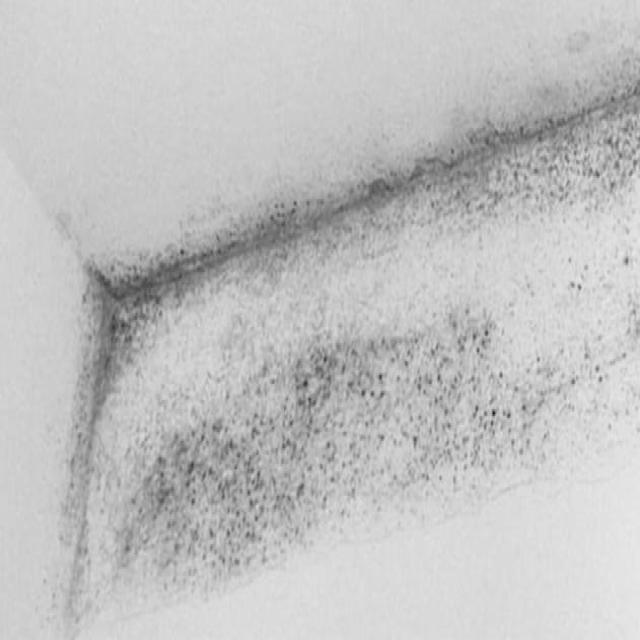stain marks: (30, 4, 640, 640)
